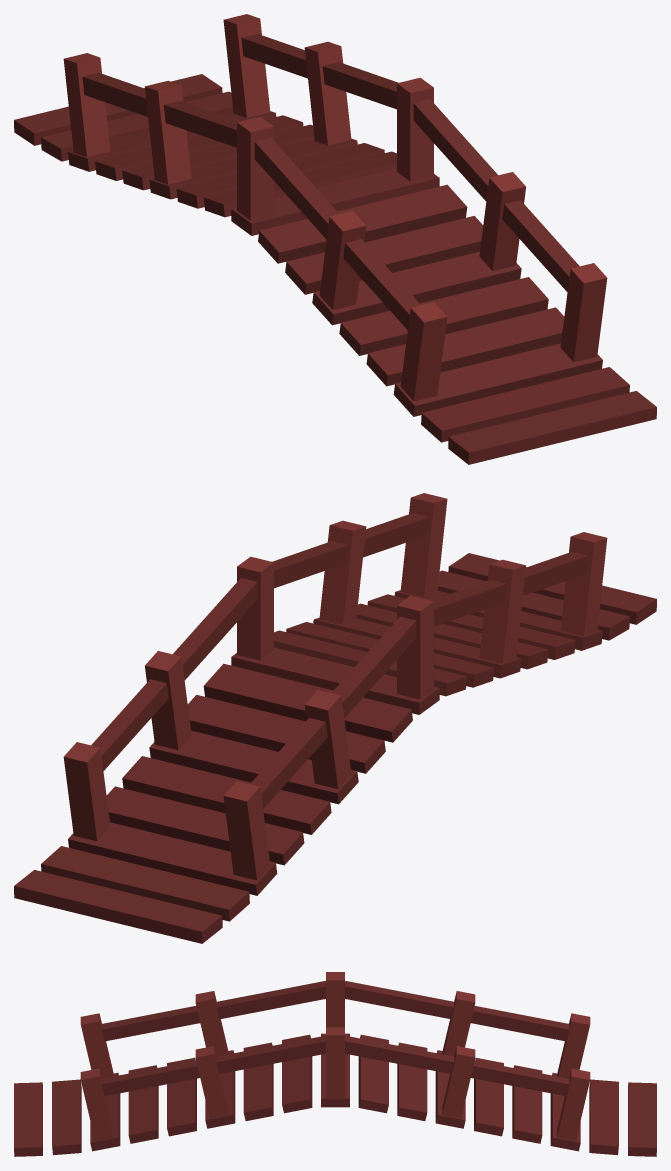
File: Bridge_1_Red.fbx
3 renders of one model, top to bottom at view 1: azimuth 30°, elevation 25°; view 2: azimuth 150°, elevation 25°; view 3: azimuth 270°, elevation 25°, orthographic. The views are drawn at different scales.
Visible parts, largest first — view 1: Bridge_1_Red_Part_1, Bridge_1_Red_Part_3, Bridge_1_Red_Part_4, Bridge_1_Red_Part_2; view 2: Bridge_1_Red_Part_2, Bridge_1_Red_Part_3, Bridge_1_Red_Part_4, Bridge_1_Red_Part_1; view 3: Bridge_1_Red_Part_4, Bridge_1_Red_Part_3, Bridge_1_Red_Part_2, Bridge_1_Red_Part_1.
Boxes of the visible parts, x1,y1,x2,y2 form: Bridge_1_Red_Part_1: (241,174,656,464); Bridge_1_Red_Part_3: (63,53,447,401); Bridge_1_Red_Part_4: (223,14,607,362); Bridge_1_Red_Part_2: (14,74,403,227); Bridge_1_Red_Part_2: (14,653,429,943); Bridge_1_Red_Part_3: (223,532,607,880); Bridge_1_Red_Part_4: (63,493,447,841); Bridge_1_Red_Part_1: (267,553,656,706); Bridge_1_Red_Part_4: (80,1027,590,1140); Bridge_1_Red_Part_3: (80,972,590,1078); Bridge_1_Red_Part_2: (335,1033,656,1156); Bridge_1_Red_Part_1: (14,1033,335,1156).
Size of the model in its own units: 400 by 347 by 1676.
